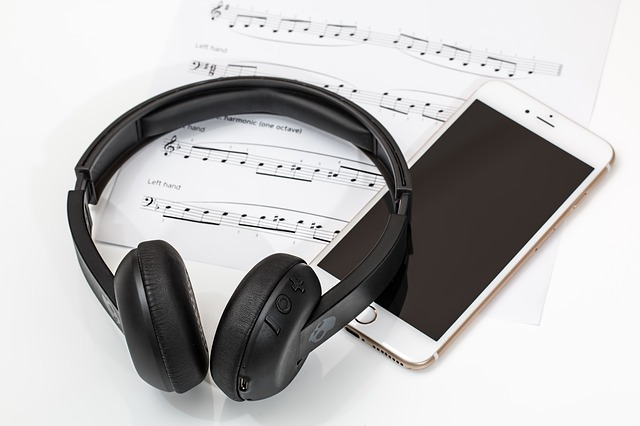headphones: (68, 76, 412, 403)
